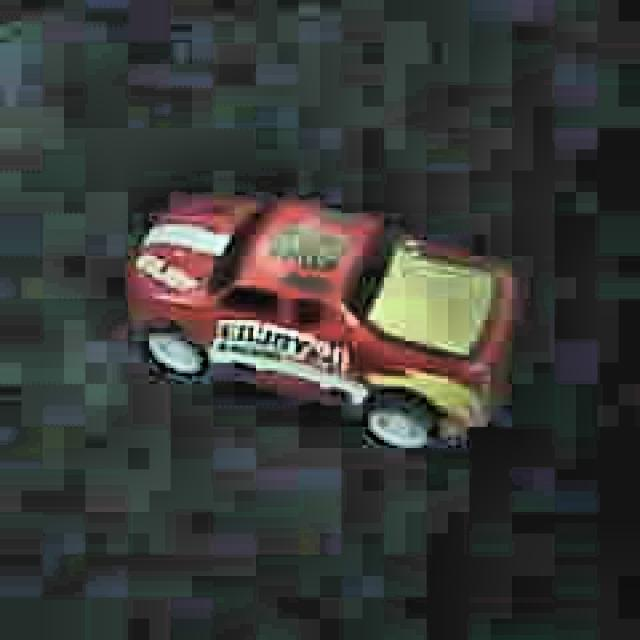car: (119, 182, 526, 454)
